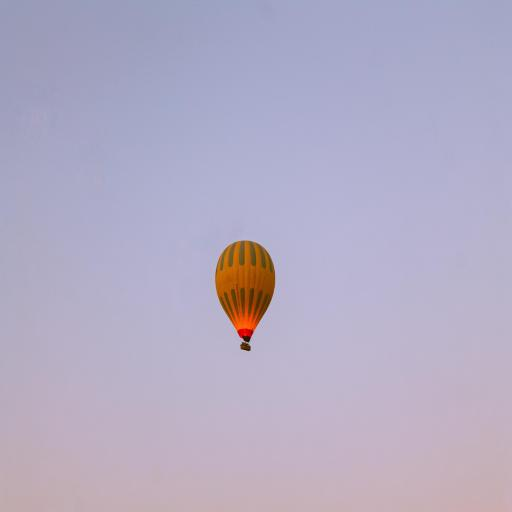hot air ballon: (214, 239, 277, 354)
